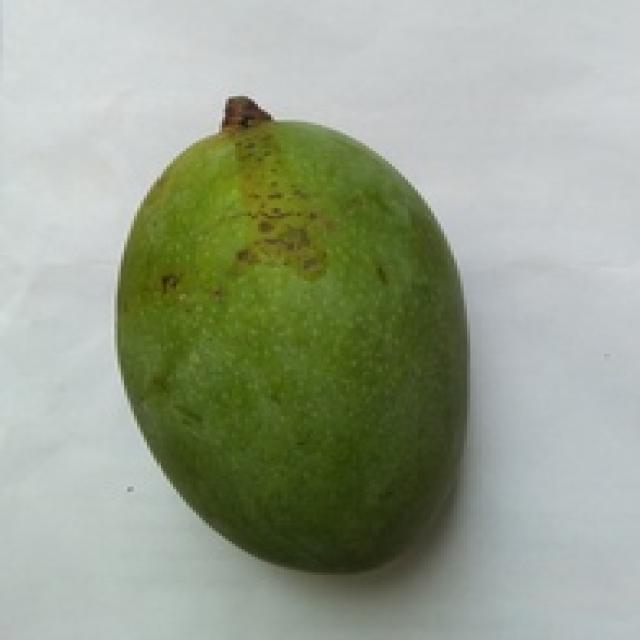Mango: (118, 120, 464, 570)
